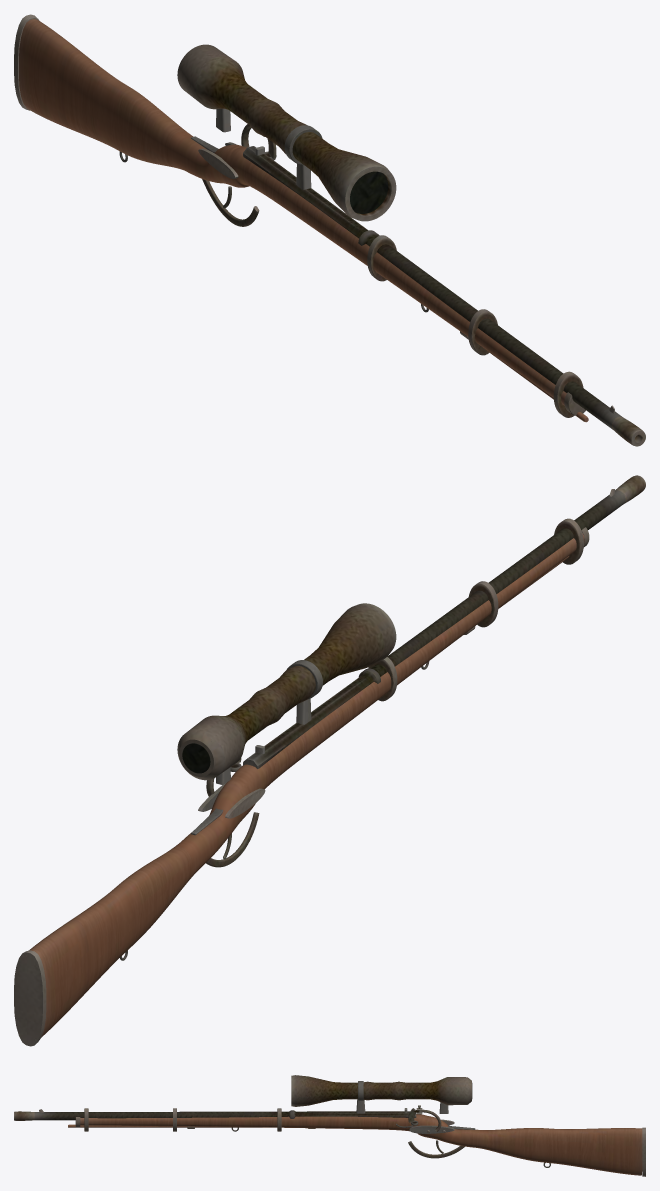
Rendered from eye_of_reach.glb.
The picture shows the model from 3 angles, top to bottom: view 1: azimuth 30°, elevation 25°; view 2: azimuth 150°, elevation 25°; view 3: azimuth 270°, elevation 25°; orthographic projection. The views are drawn at different scales.
Visible parts, largest first — view 1: eye_of_reach_body, scope, muzzle; view 2: eye_of_reach_body, scope; view 3: eye_of_reach_body, scope, muzzle, hammer.
Boxes of the visible parts, bbox=[...] form: eye_of_reach_body: bbox=[14, 14, 621, 429]; scope: bbox=[177, 44, 396, 221]; muzzle: bbox=[611, 416, 645, 446]; eye_of_reach_body: bbox=[14, 489, 625, 1046]; scope: bbox=[177, 603, 396, 784]; eye_of_reach_body: bbox=[34, 1108, 645, 1176]; scope: bbox=[291, 1075, 472, 1113]; muzzle: bbox=[14, 1111, 34, 1120]; hammer: bbox=[414, 1105, 441, 1131].
Bounding box in the file's own units: 0.092 × 0.3172 × 1.82.
Materials: 1 (1 with a texture image).
